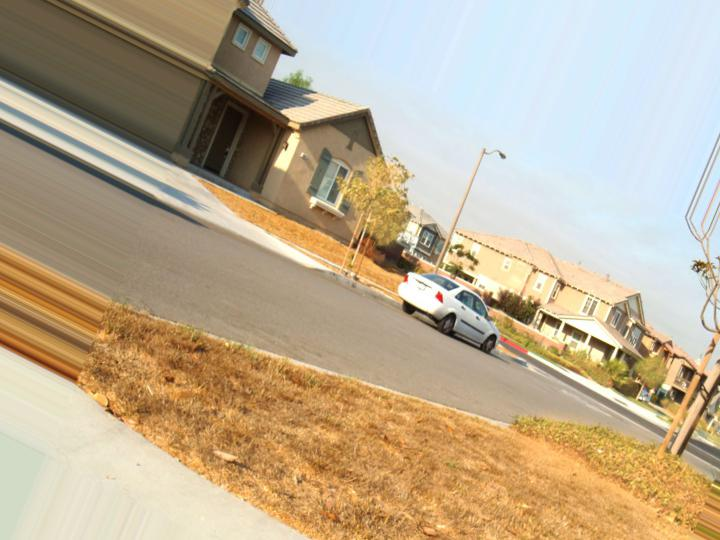patch: (131, 348, 590, 534), (256, 212, 399, 286)
